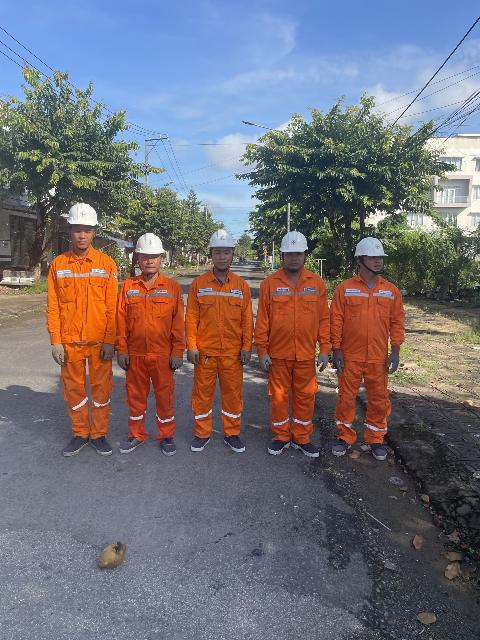gloves: (46, 341, 77, 370), (96, 336, 116, 366), (326, 351, 350, 373), (253, 354, 272, 378), (163, 355, 183, 375), (186, 344, 202, 369), (384, 349, 401, 372), (118, 351, 132, 375), (311, 353, 328, 372), (238, 350, 252, 368)
helmet: (131, 230, 175, 261), (350, 233, 395, 261), (62, 200, 99, 231), (276, 228, 314, 258), (206, 231, 231, 252)
shoes: (290, 431, 321, 462), (55, 428, 88, 456), (152, 432, 185, 459), (186, 428, 212, 456), (326, 434, 354, 460), (366, 436, 391, 465), (118, 431, 143, 458), (266, 429, 291, 456), (91, 426, 112, 457), (222, 425, 245, 453)
